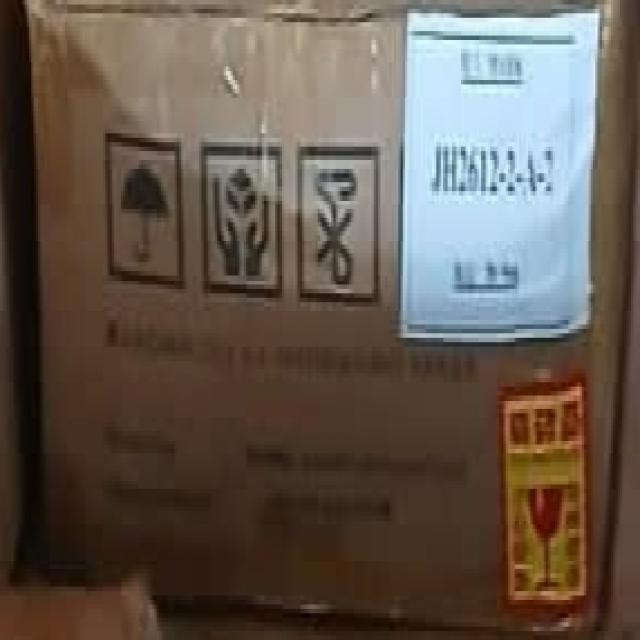carton_box: (13, 0, 638, 635)
export_mark_label: (402, 5, 598, 331)
fragile_label: (505, 442, 590, 606)
handle_with_care_label: (192, 129, 297, 300)
keep_dry_label: (99, 118, 189, 296)
